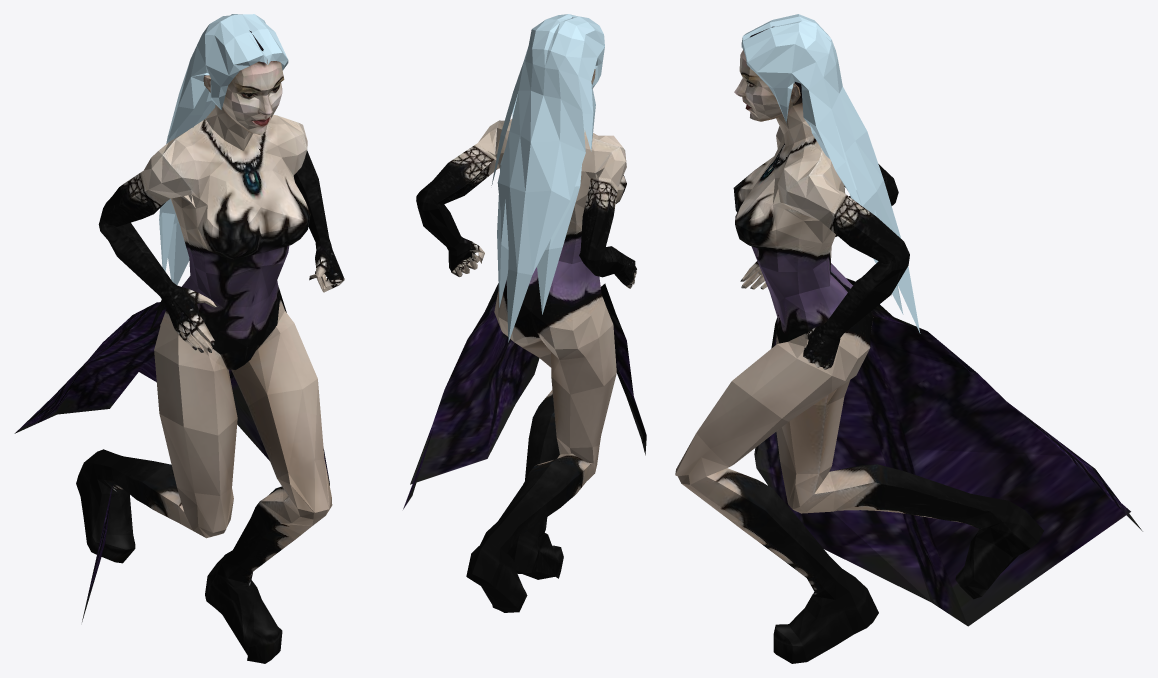
The model's file is running_021.obj.
3 views of the same model, side by side, from view 1: azimuth 30°, elevation 25°; view 2: azimuth 150°, elevation 25°; view 3: azimuth 270°, elevation 25° (orthographic). The views are drawn at different scales.
Visible parts, largest first — view 1: Plane.001_Plane.007, capelli.001_Plane.006, Plane.003_Plane.008; view 2: Plane.001_Plane.007, capelli.001_Plane.006, Plane.003_Plane.008; view 3: Plane.001_Plane.007, Plane.003_Plane.008, capelli.001_Plane.006.
Part boxes in pixels (x1,y1,x2,y2): Plane.001_Plane.007: (76,30,344,663); capelli.001_Plane.006: (159,14,288,284); Plane.003_Plane.008: (14,286,329,621); Plane.001_Plane.007: (416,17,636,612); capelli.001_Plane.006: (491,14,604,342); Plane.003_Plane.008: (403,283,646,509); Plane.001_Plane.007: (675,26,1043,663); Plane.003_Plane.008: (754,278,1142,626); capelli.001_Plane.006: (741,14,920,333).
Bounding box in the file's own units: 1.71 × 5.04 × 3.34.
